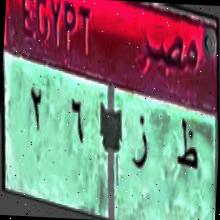2: (25, 81, 44, 138)
6: (66, 94, 88, 154)
Thaa: (174, 112, 200, 178)
zay: (130, 112, 152, 175)
